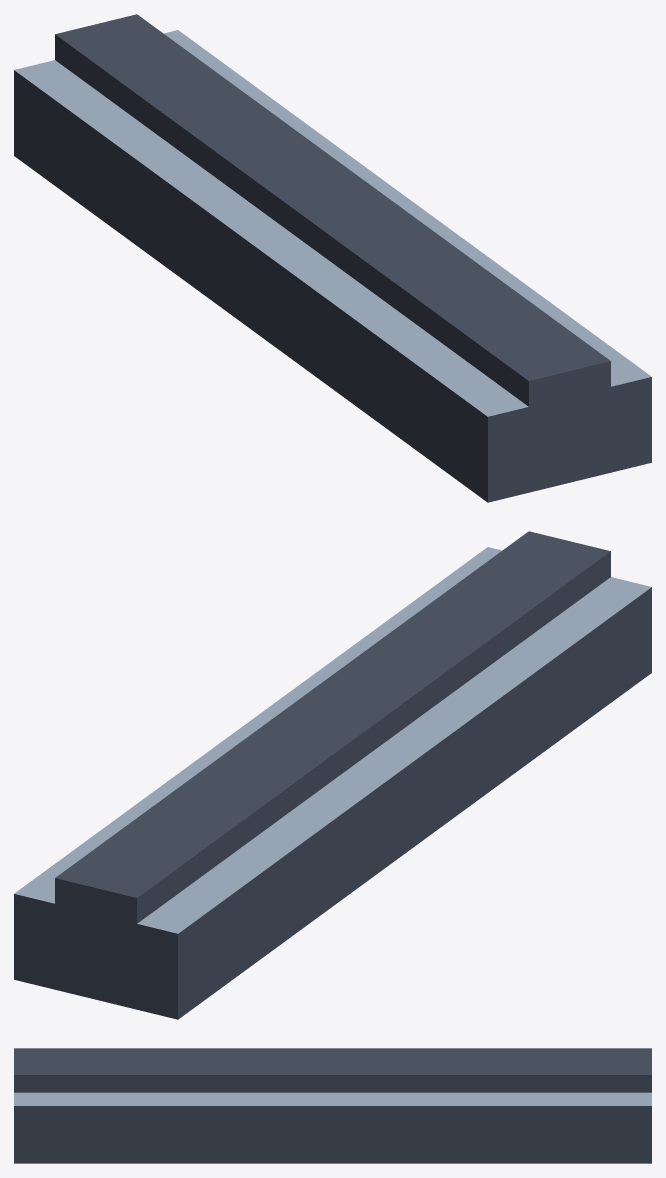
File: monorail_trackStraight.glb
The picture shows the model from 3 angles, top to bottom: view 1: azimuth 30°, elevation 25°; view 2: azimuth 150°, elevation 25°; view 3: azimuth 270°, elevation 25°; orthographic projection. The views are drawn at different scales.
Visible parts, largest first — view 1: monorail_trackStraight; view 2: monorail_trackStraight; view 3: monorail_trackStraight.
Boxes of the visible parts, bbox=[...] form: monorail_trackStraight: bbox=[14, 14, 651, 502]; monorail_trackStraight: bbox=[14, 531, 651, 1019]; monorail_trackStraight: bbox=[14, 1048, 651, 1163].
Bounding box in the file's own units: 0.2 × 0.13 × 1.
